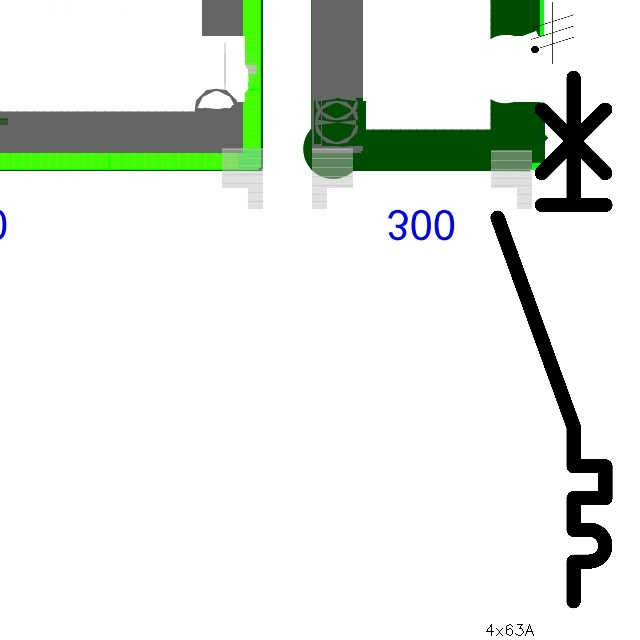interruptor_termomagnetico: (484, 64, 619, 615)
